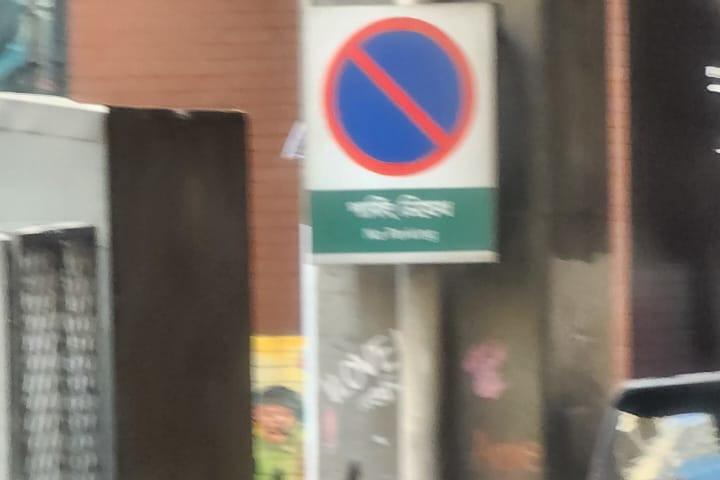No Parking: (302, 3, 497, 265)
